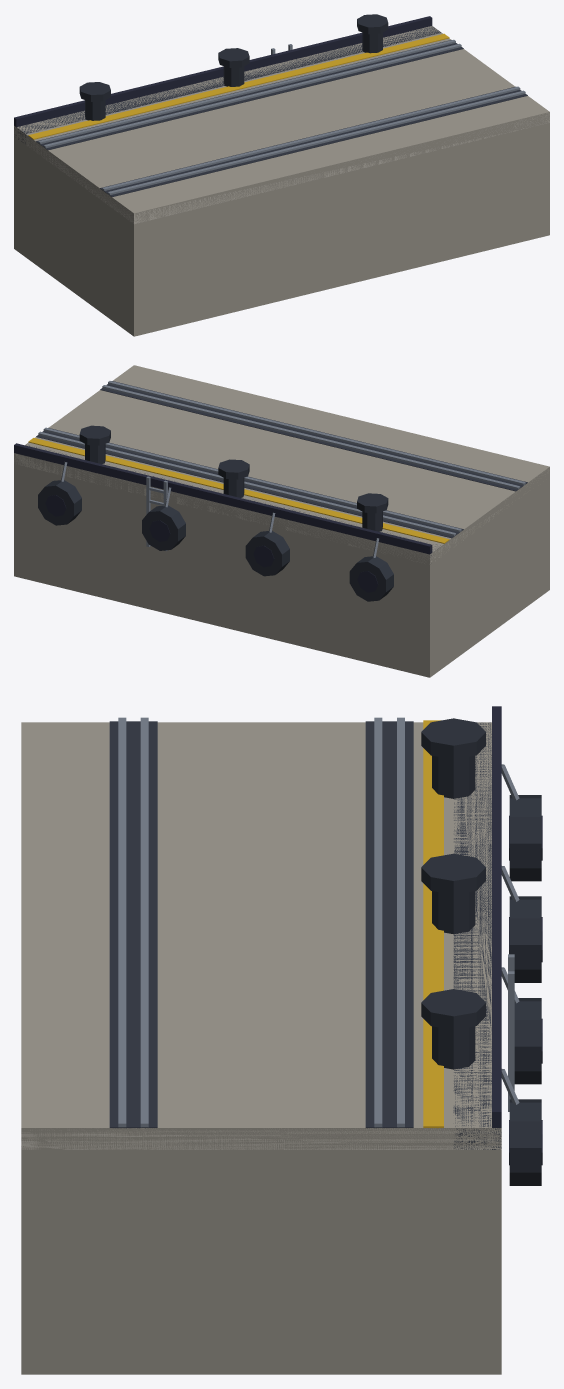
File: quay.glb
The picture shows the model from 3 angles, top to bottom: view 1: azimuth 30°, elevation 25°; view 2: azimuth 150°, elevation 25°; view 3: azimuth 270°, elevation 25°; orthographic projection. The views are drawn at different scales.
Parts seen in each view (by area): view 1: quay; view 2: quay; view 3: quay.
Part boxes in pixels (x1,y1,x2,y2): quay: [14, 14, 549, 336]; quay: [14, 365, 549, 677]; quay: [21, 706, 542, 1374].
Size of the model in its own units: 12 by 4.2 by 6.51.
